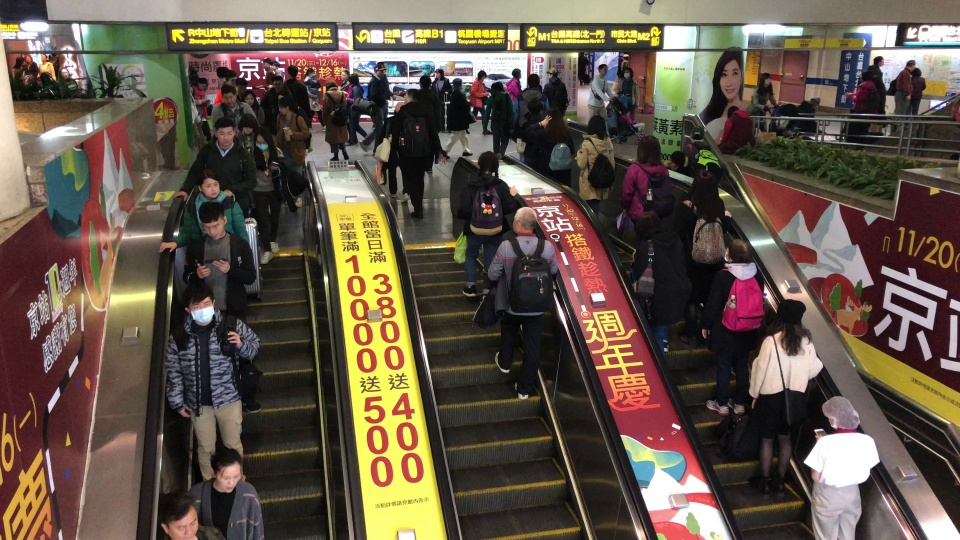person_head: (158, 489, 200, 540), (182, 281, 217, 328), (209, 446, 243, 494), (819, 395, 861, 433), (772, 298, 808, 335), (198, 200, 227, 242), (689, 169, 719, 204), (723, 237, 753, 269), (631, 210, 663, 240), (510, 205, 538, 237), (635, 135, 662, 166), (196, 167, 222, 199), (213, 116, 236, 146), (475, 151, 499, 176), (542, 107, 566, 132), (586, 114, 607, 139), (236, 113, 258, 136), (665, 150, 688, 171), (253, 128, 273, 152), (220, 84, 236, 108), (276, 95, 293, 115), (402, 87, 421, 104), (526, 96, 543, 114), (241, 89, 257, 107), (489, 80, 506, 96), (416, 74, 432, 90), (527, 72, 540, 91), (224, 69, 237, 87), (234, 77, 247, 95), (324, 76, 339, 91), (691, 124, 705, 140), (759, 72, 772, 89), (271, 76, 284, 91), (373, 64, 386, 79), (451, 75, 463, 91), (215, 66, 229, 79), (285, 65, 298, 79), (545, 66, 559, 79), (726, 105, 740, 118), (859, 69, 873, 82), (195, 77, 208, 90), (393, 101, 405, 115), (622, 66, 634, 80), (807, 96, 821, 108), (348, 73, 359, 87), (58, 67, 70, 79), (188, 65, 197, 81), (873, 55, 884, 68), (477, 70, 487, 84), (13, 56, 25, 67), (510, 68, 521, 80), (304, 67, 315, 78), (434, 68, 445, 79), (911, 66, 922, 77), (261, 57, 271, 69), (376, 61, 386, 73), (598, 64, 608, 76), (340, 69, 350, 80), (906, 59, 915, 71), (39, 53, 48, 63), (270, 60, 279, 69), (623, 107, 631, 117), (25, 54, 32, 62), (311, 73, 319, 80), (21, 52, 26, 58), (579, 51, 584, 56)
person_vbox: (161, 281, 261, 483), (181, 200, 261, 413), (744, 297, 824, 500), (485, 204, 559, 401), (698, 237, 764, 419), (803, 394, 881, 540), (677, 168, 732, 347), (629, 210, 693, 359), (456, 150, 519, 299), (171, 116, 258, 218), (157, 167, 249, 256), (183, 446, 265, 540), (394, 88, 446, 219), (248, 128, 289, 264), (620, 134, 672, 231), (444, 151, 482, 275), (573, 113, 614, 221), (521, 106, 573, 191), (272, 95, 310, 207), (375, 99, 409, 204), (511, 72, 549, 161), (412, 74, 443, 174), (439, 74, 473, 158), (357, 64, 387, 156), (481, 79, 514, 159), (282, 65, 311, 151), (321, 75, 350, 161), (209, 84, 257, 132), (586, 63, 615, 142), (259, 75, 295, 137), (744, 72, 779, 132), (844, 68, 881, 124), (717, 104, 755, 154), (840, 109, 885, 151), (463, 69, 491, 136), (862, 55, 888, 127), (370, 61, 396, 132), (891, 59, 916, 132), (344, 72, 368, 146), (681, 123, 712, 175), (303, 67, 327, 133), (518, 96, 549, 145), (191, 77, 212, 142), (542, 66, 568, 117), (615, 66, 639, 121), (904, 66, 926, 121), (233, 112, 258, 157), (794, 96, 822, 134), (188, 91, 205, 150), (213, 69, 238, 105), (241, 89, 265, 125), (504, 67, 523, 107), (430, 67, 451, 103), (620, 107, 645, 135), (255, 57, 274, 92), (303, 73, 321, 108), (57, 66, 78, 92), (38, 52, 56, 80), (11, 55, 28, 82), (616, 51, 630, 79), (578, 51, 589, 85), (338, 68, 351, 96), (22, 53, 38, 75), (214, 66, 229, 89), (270, 60, 285, 83), (47, 52, 58, 67)
